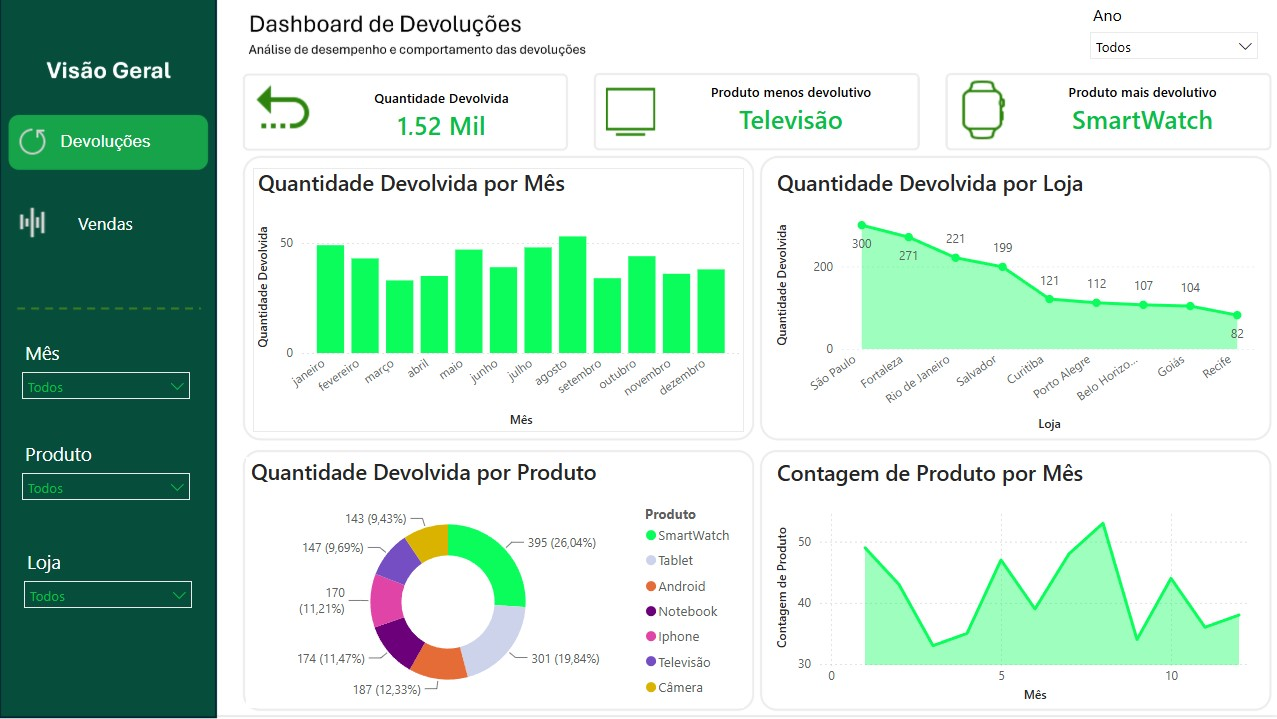

What the dashboard file says about the page in this screenshot:
{"tool":"powerbi","page":{"name":"Devoluções","canvas":[1280,720],"ordinal":1},"visuals":[{"type":"columnChart","fields":{"Category":["Devoluções 2019.Data Nova.Variation.Hierarquia de datas.Ano","Devoluções 2019.Data Nova.Variation.Hierarquia de datas.Mês"],"Y":["CountNonNull(Devoluções 2019.Quantidade Devolvida)"]},"box":[254,169,491,264],"z":0},{"type":"donutChart","fields":{"Category":["Devoluções 2019.Produto"],"Y":["Sum(Devoluções 2019.Quantidade Devolvida)"]},"box":[246.7,458.3,497.9,250.2],"z":1000},{"type":"lineChart","fields":{"Category":["Devoluções 2019.Loja"],"Y":["Sum(Devoluções 2019.Quantidade Devolvida)"]},"box":[773,169,489,268],"z":2000},{"type":"cardVisual","fields":{"Data":["Min(Devoluções 2019.Produto)"]},"box":[1018,68,251,84],"z":3000},{"type":"slicer","fields":{"Values":["Devoluções 2019.Mês"]},"box":[13,336,188,75],"z":4000},{"type":"slicer","fields":{"Values":["Devoluções 2019.Produto"]},"box":[13,437,188,75],"z":5000},{"type":"slicer","fields":{"Values":["Devoluções 2019.Loja"]},"box":[15,545,188,75],"z":6000},{"type":"stackedAreaChart","fields":{"Category":["Devoluções 2019.Mês"],"Y":["CountNonNull(Devoluções 2019.Produto)"]},"box":[773,459,482,249],"z":7000},{"type":"actionButton","box":[10,116,193,53],"z":8000},{"type":"cardVisual","fields":{"Data":["Min(Devoluções 2019.Produto)"]},"box":[666,68,252,84],"z":9000},{"type":"cardVisual","fields":{"Data":["Sum(Devoluções 2019.Quantidade Devolvida)"]},"box":[320,78,245,75],"z":10000},{"type":"actionButton","box":[10,197,193,53],"z":11000},{"type":"slicer","fields":{"Values":["Devoluções 2019.Data Nova.Variation.Hierarquia de datas.Ano"]},"box":[1081,0,188,68],"z":11001}]}

Visuals, with their boxes on the page's 1280x720 design canvas (x1, y1, x2, y2). These are canvas units, not pixel positions in the 1277x719 screenshot, which may show the page scaled, cropped or inside an application window:
columnChart - Devoluções 2019.Data Nova.Variation.Hierarquia de datas.Ano x Devoluções 2019.Data Nova.Variation.Hierarquia de datas.Mês: 254/169/745/433
donutChart - Devoluções 2019.Produto x Sum(Devoluções 2019.Quantidade Devolvida): 247/458/745/708
lineChart - Devoluções 2019.Loja x Sum(Devoluções 2019.Quantidade Devolvida): 773/169/1262/437
cardVisual - Min(Devoluções 2019.Produto): 1018/68/1269/152
slicer - Devoluções 2019.Mês: 13/336/201/411
slicer - Devoluções 2019.Produto: 13/437/201/512
slicer - Devoluções 2019.Loja: 15/545/203/620
stackedAreaChart - Devoluções 2019.Mês x CountNonNull(Devoluções 2019.Produto): 773/459/1255/708
actionButton: 10/116/203/169
cardVisual - Min(Devoluções 2019.Produto): 666/68/918/152
cardVisual - Sum(Devoluções 2019.Quantidade Devolvida): 320/78/565/153
actionButton: 10/197/203/250
slicer - Devoluções 2019.Data Nova.Variation.Hierarquia de datas.Ano: 1081/0/1269/68
